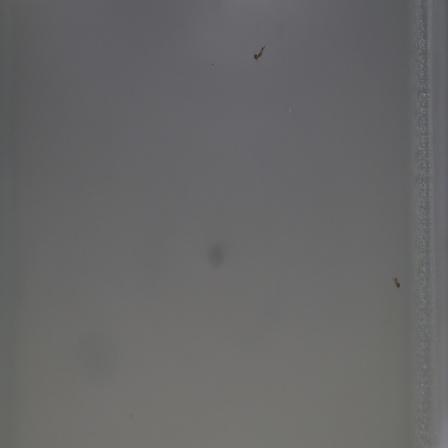Jentik-Nyamuk: (248, 42, 268, 65), (391, 273, 402, 293)
